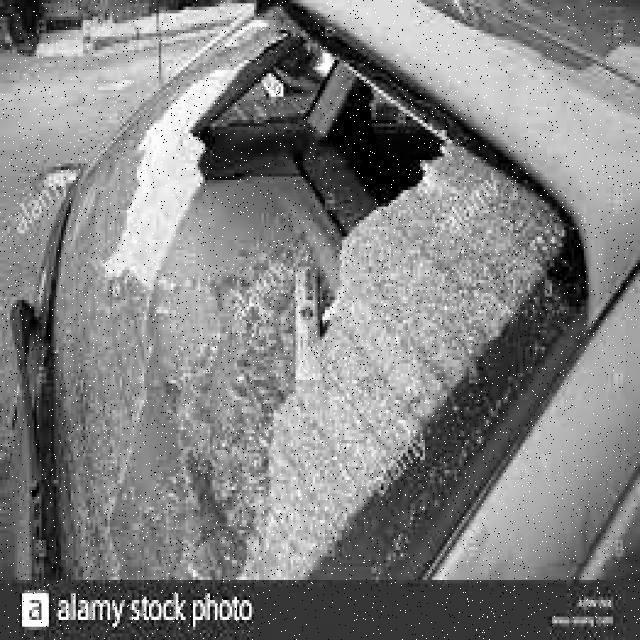Rear-windscreen-Damage: (16, 4, 536, 580)
